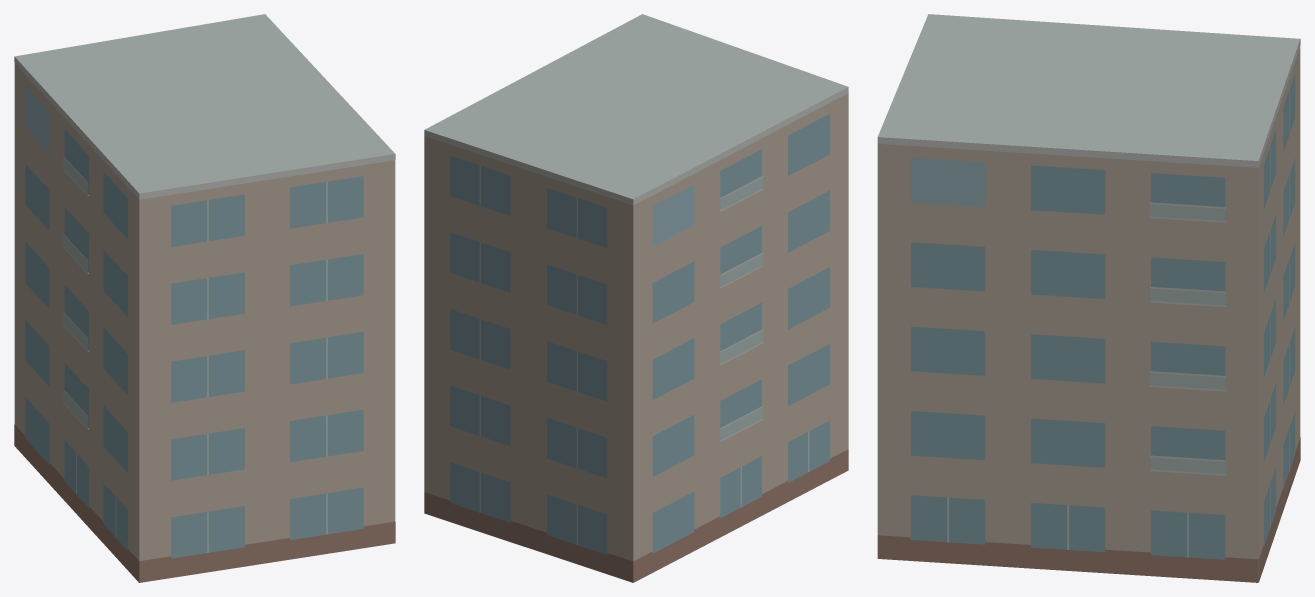
The model's file is survey-upis-32910453.glb.
The picture shows the model from 3 angles, left to right: view 1: azimuth 30°, elevation 25°; view 2: azimuth 150°, elevation 25°; view 3: azimuth 270°, elevation 25°; orthographic projection. The views are drawn at different scales.
Parts seen in each view (by area): view 1: survey-upis-32910453.tmp; view 2: survey-upis-32910453.tmp; view 3: survey-upis-32910453.tmp.
Part boxes in pixels (x1,y1,x2,y2): survey-upis-32910453.tmp: (14,14,395,582); survey-upis-32910453.tmp: (424,14,848,582); survey-upis-32910453.tmp: (877,14,1300,582).
Size of the model in its own units: 11.42 by 15.25 by 13.86.
